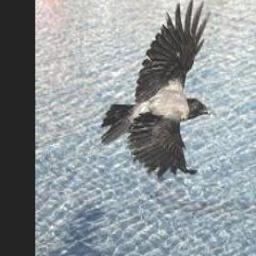Crow: (100, 0, 213, 176)
